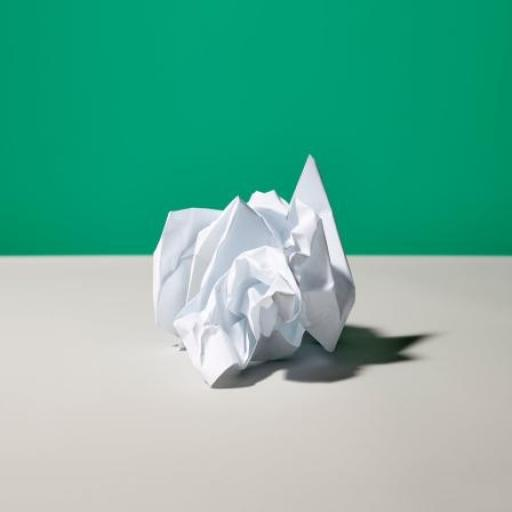paper: (113, 103, 389, 460)
